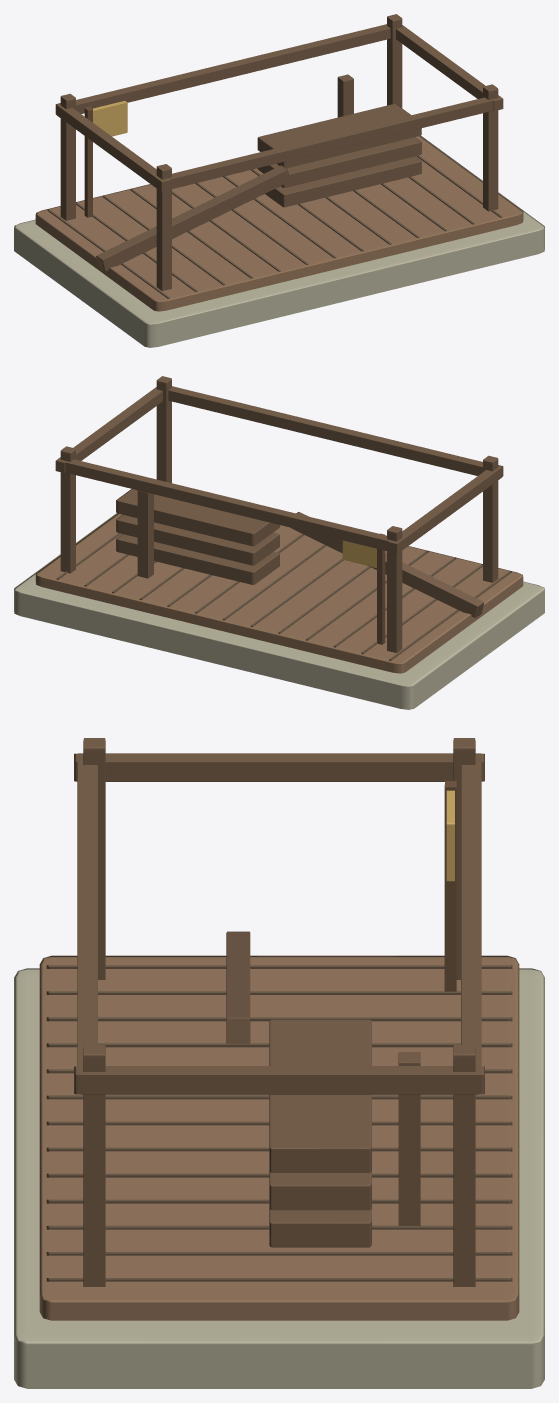
The model's file is woodlookout-3.glb.
3 renders of one model, top to bottom at view 1: azimuth 30°, elevation 25°; view 2: azimuth 150°, elevation 25°; view 3: azimuth 270°, elevation 25°, orthographic. The views are drawn at different scales.
Parts seen in each view (by area): view 1: woodlookout-3-0, landmark-restored, landmark-ruin; view 2: woodlookout-3-0, landmark-restored, landmark-ruin; view 3: woodlookout-3-0, landmark-restored, landmark-ruin.
Boxes of the visible parts, box(x1,y1,x2,y2) form: woodlookout-3-0: box(14, 135, 544, 347); landmark-restored: box(55, 14, 503, 290); landmark-ruin: box(96, 74, 353, 271); woodlookout-3-0: box(14, 513, 544, 709); landmark-restored: box(55, 376, 503, 652); landmark-ruin: box(137, 490, 483, 618); woodlookout-3-0: box(14, 955, 544, 1388); landmark-restored: box(74, 738, 484, 1286); landmark-ruin: box(226, 931, 420, 1225).
Size of the model in its own units: 2.6 by 0.985 by 1.55.
